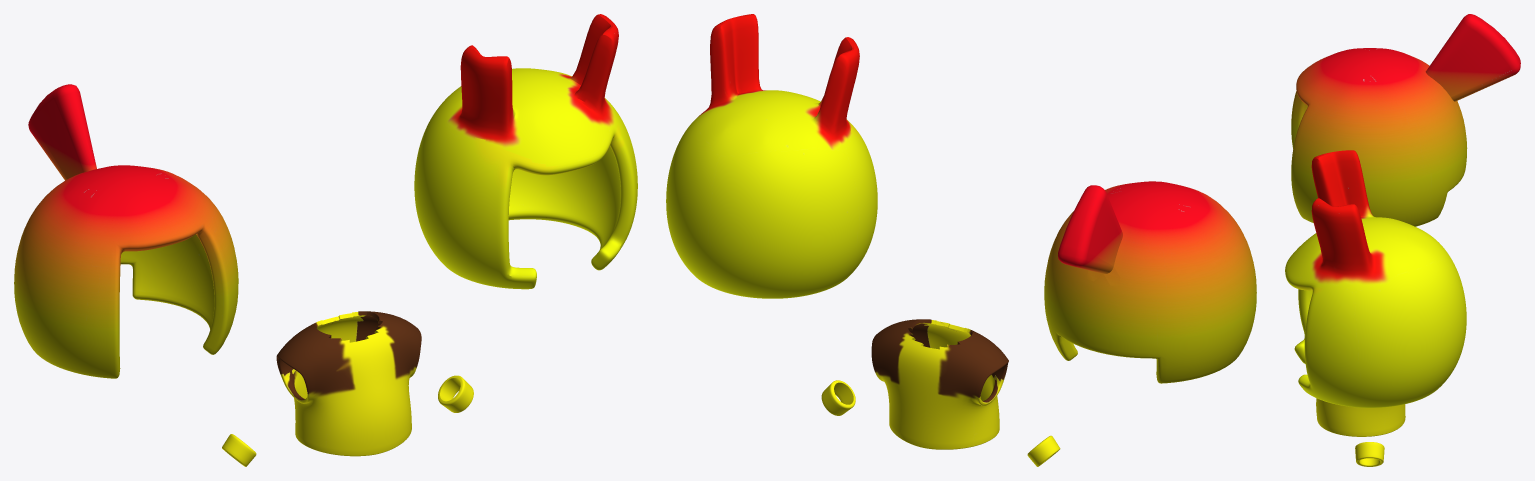
Rendered from Clothes.fbx.
3 renders of one model, left to right at view 1: azimuth 30°, elevation 25°; view 2: azimuth 150°, elevation 25°; view 3: azimuth 270°, elevation 25°, orthographic. The views are drawn at different scales.
Visible parts, largest first — view 1: hat, Hat, Clothes; view 2: hat, Hat, Clothes; view 3: hat, Hat, Clothes.
Boxes of the visible parts, bbox=[...] form: hat: bbox=[414, 14, 637, 289]; Hat: bbox=[14, 84, 238, 378]; Clothes: bbox=[222, 311, 473, 466]; hat: bbox=[666, 14, 877, 298]; Hat: bbox=[1044, 181, 1256, 383]; Clothes: bbox=[821, 319, 1060, 466]; hat: bbox=[1285, 150, 1466, 407]; Hat: bbox=[1291, 14, 1520, 226]; Clothes: bbox=[1316, 398, 1405, 466].
Size of the model in its own units: 219 by 131 by 86.95.
Materials: 3 (3 with a texture image).
